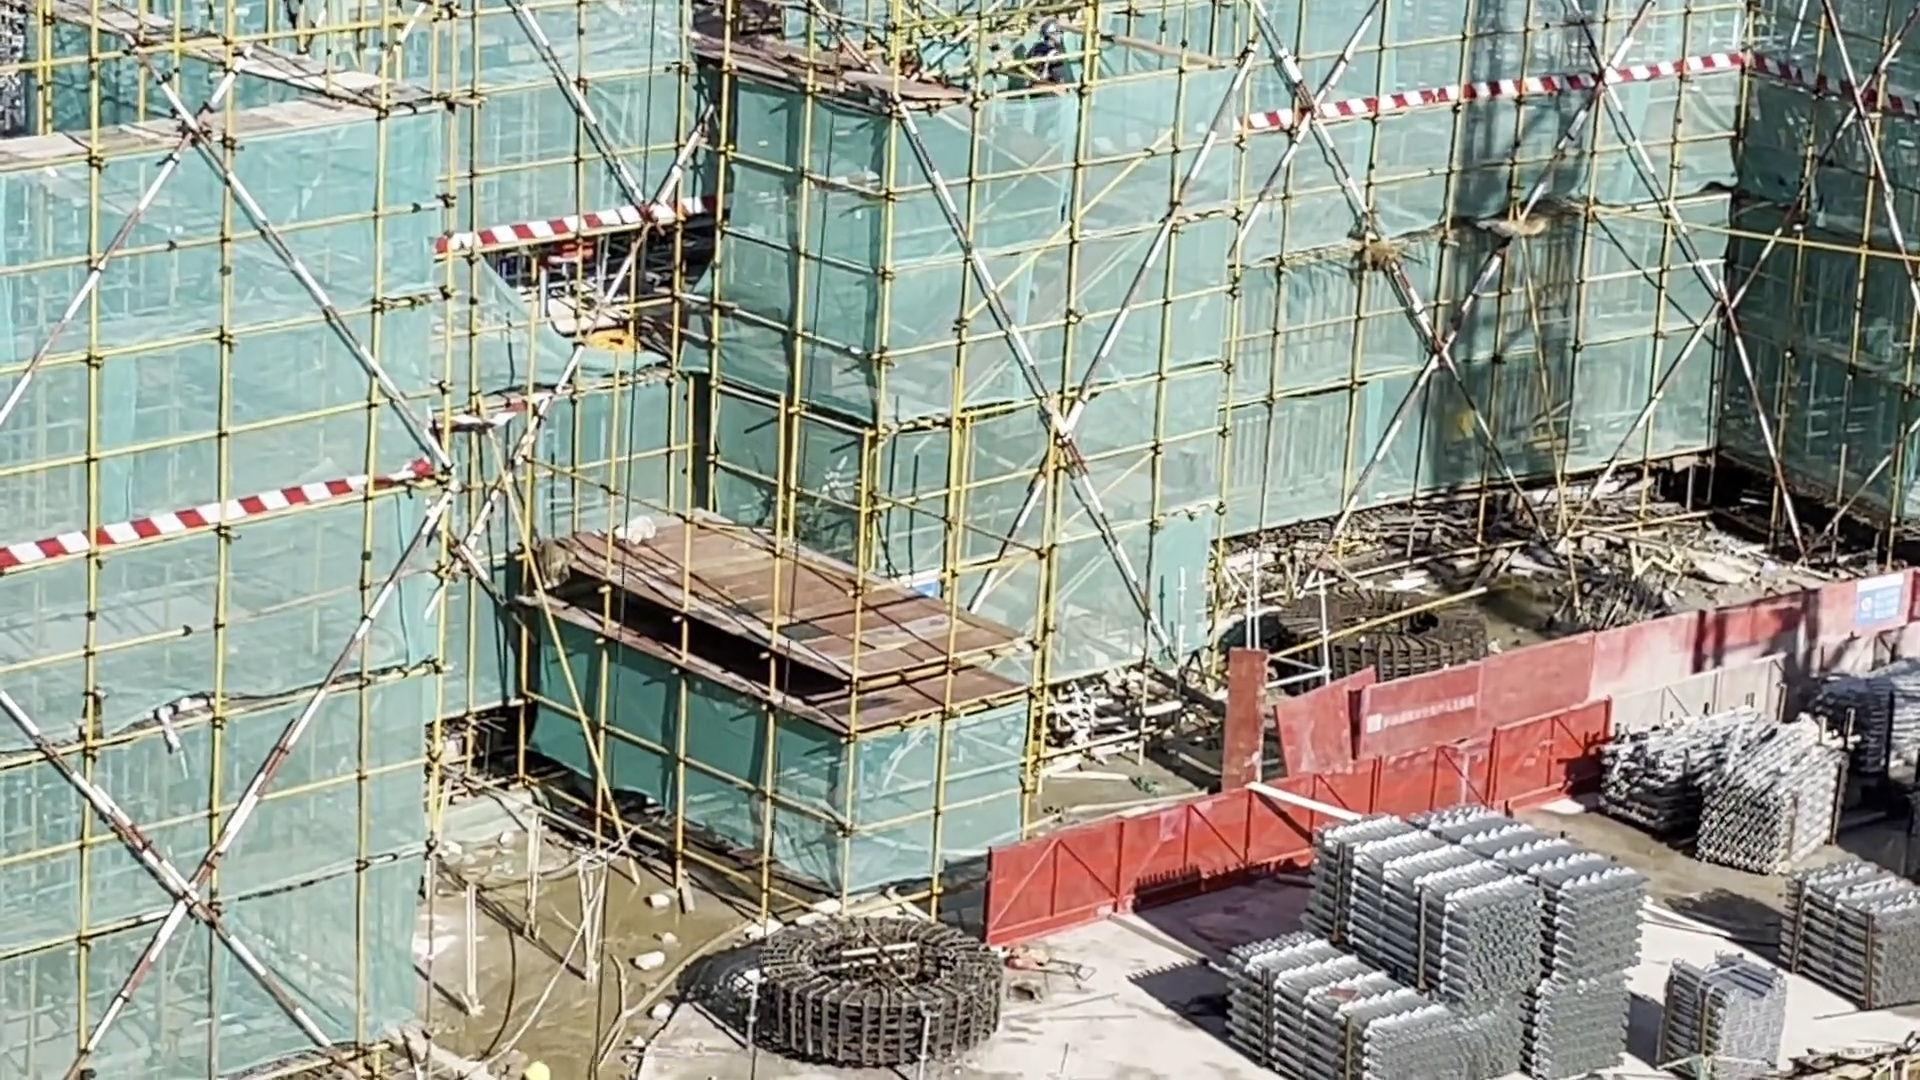fence: (986, 622, 1920, 944)
scaffold: (1222, 819, 1638, 1080), (1614, 709, 1841, 880), (1789, 858, 1920, 1033), (1662, 949, 1787, 1080)
